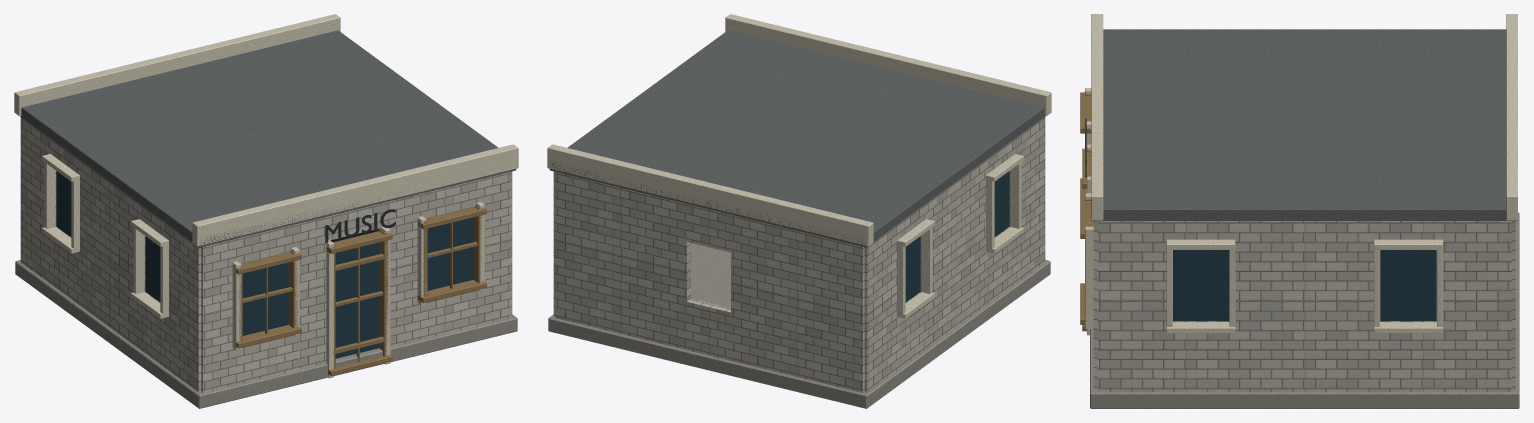
File: SHOPE2_lod1.glb
The picture shows the model from 3 angles, left to right: view 1: azimuth 30°, elevation 25°; view 2: azimuth 150°, elevation 25°; view 3: azimuth 270°, elevation 25°; orthographic projection. The views are drawn at different scales.
Visible parts, largest first — view 1: SHOPE2_LOD1; view 2: SHOPE2_LOD1; view 3: SHOPE2_LOD1.
Boxes of the visible parts, x1,y1,x2,y2 form: SHOPE2_LOD1: (14,14,518,408); SHOPE2_LOD1: (547,14,1051,408); SHOPE2_LOD1: (1080,14,1519,408).
Size of the model in its own units: 7.51 by 3.97 by 7.41.
Materials: 8 (6 with a texture image).
